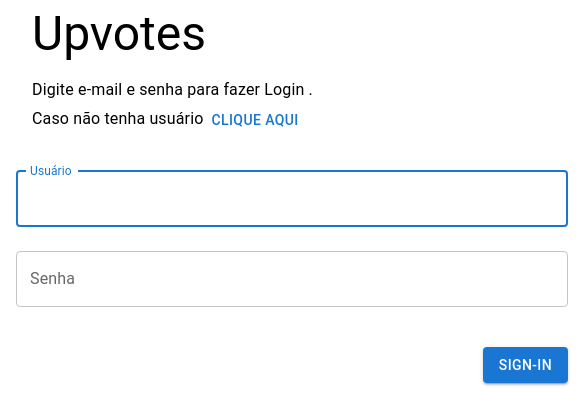
Test: Login Screen test › render app to sign-up
Click the button "Clique aqui".
click(255, 120)  # box [204,102,307,138]
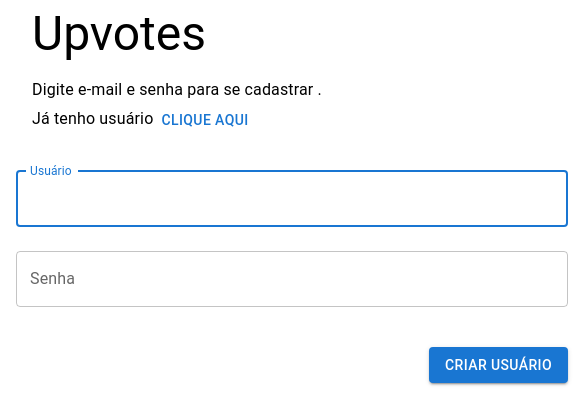
Now the text "cadastrar" is shown, box [32,80,322,99]
